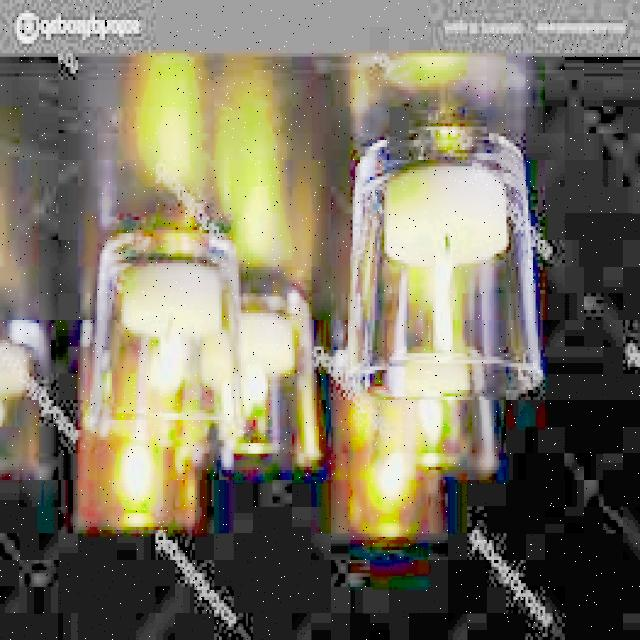api: (432, 242, 464, 358), (147, 328, 191, 398)
